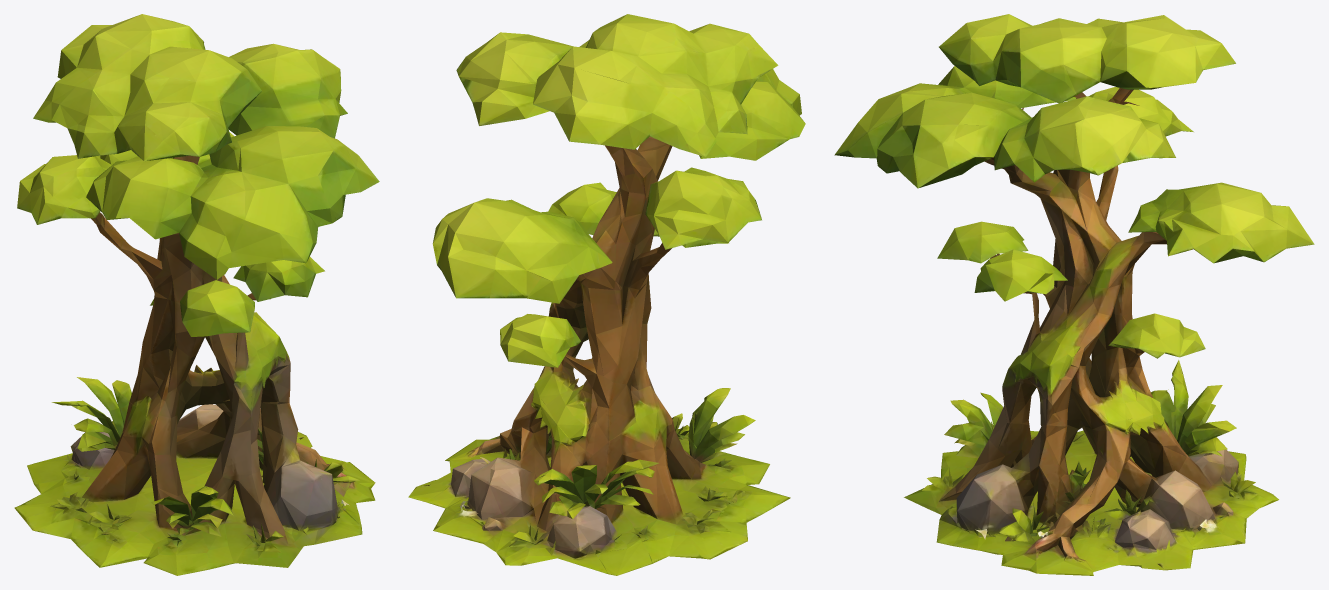
The model's file is KeepSakeTallTreeV2.glb.
3 renders of one model, left to right at view 1: azimuth 30°, elevation 25°; view 2: azimuth 150°, elevation 25°; view 3: azimuth 270°, elevation 25°, orthographic.
Visible parts, largest first — view 1: tripo_node_2f3d04f4-b27b-4dfd-ae24-d6976c207b1e; view 2: tripo_node_2f3d04f4-b27b-4dfd-ae24-d6976c207b1e; view 3: tripo_node_2f3d04f4-b27b-4dfd-ae24-d6976c207b1e.
Part boxes in pixels (box(x1,y1,x2,y2)): tripo_node_2f3d04f4-b27b-4dfd-ae24-d6976c207b1e: box(14, 14, 379, 575); tripo_node_2f3d04f4-b27b-4dfd-ae24-d6976c207b1e: box(408, 14, 805, 575); tripo_node_2f3d04f4-b27b-4dfd-ae24-d6976c207b1e: box(834, 14, 1314, 575).
Size of the model in its own units: 0.6938 by 0.9786 by 0.9178.
Materials: 1 (1 with a texture image).
